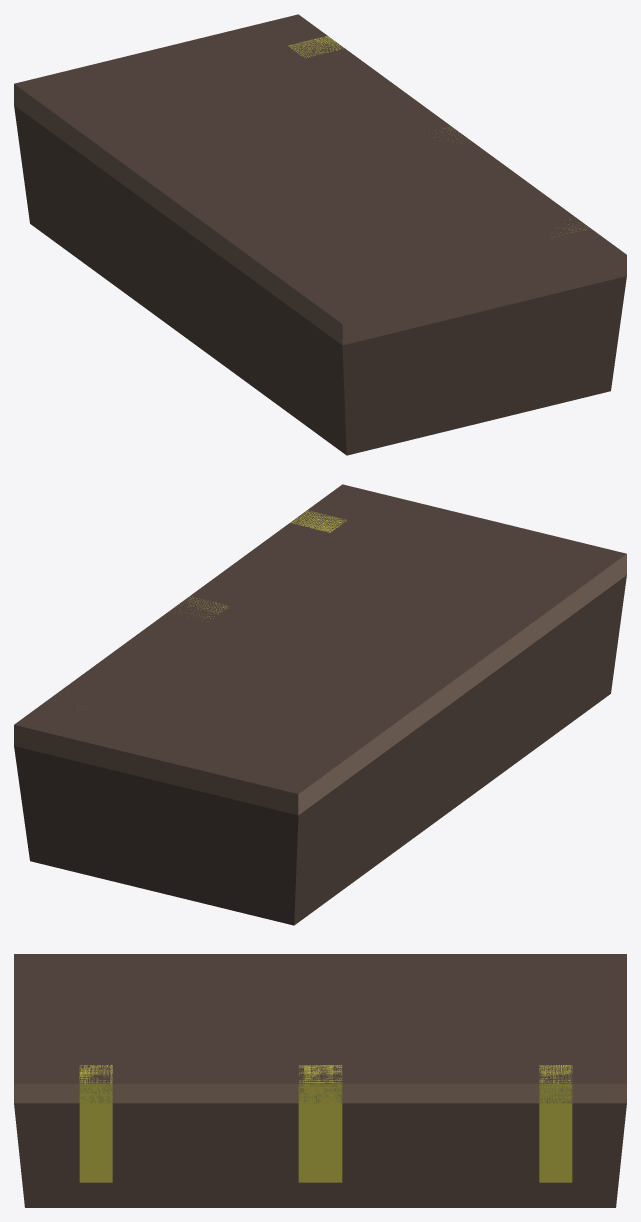
Rendered from seed-box.gltf.
3 views of the same model, one above another, from view 1: azimuth 30°, elevation 25°; view 2: azimuth 150°, elevation 25°; view 3: azimuth 270°, elevation 25° (orthographic). The views are drawn at different scales.
Size of the model in its own units: 28 by 13 by 56.
Materials: 1 (1 with a texture image).
